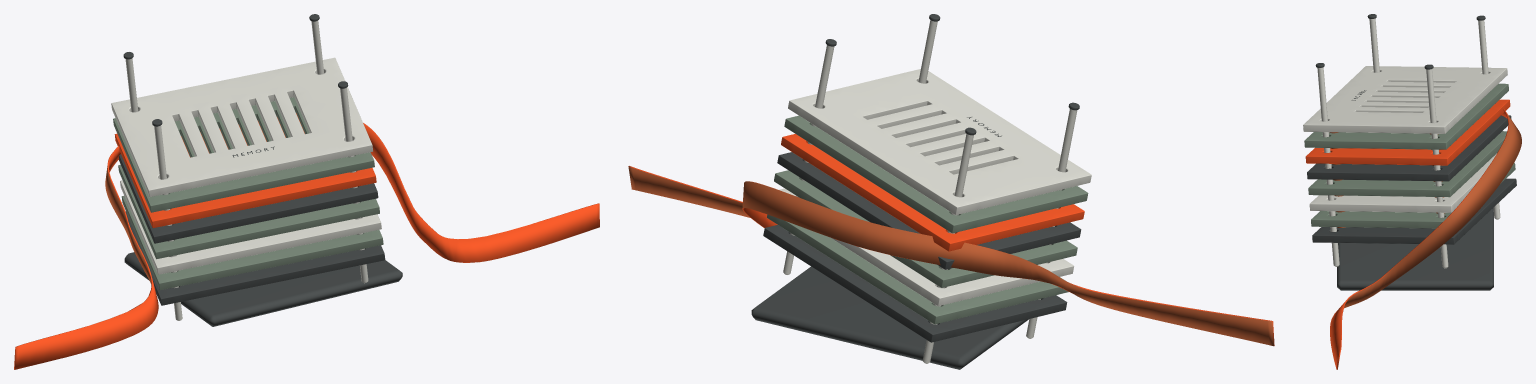
File: plates.glb
3 renders of one model, left to right at view 1: azimuth 30°, elevation 25°; view 2: azimuth 150°, elevation 25°; view 3: azimuth 270°, elevation 25°, orthographic. The views are drawn at different scales.
Visible parts, largest first — view 1: Layer7, Bed, Layer6, Layer5, Layer3, Layer1, Layer2, Layer4, Layer0; view 2: Bed, Layer7, Layer6, Layer0, Layer5, Layer1, Layer4, Layer2, Layer3; view 3: Bed, Layer7, Layer5, Layer6, Layer4, Layer3, Layer2, Layer0, Layer1.
Boxes of the visible parts, left/top/right/bottom form: Layer7: left=111, top=57, right=372, bottom=196; Bed: left=14, top=14, right=599, bottom=369; Layer6: left=113, top=97, right=374, bottom=212; Layer5: left=114, top=113, right=376, bottom=227; Layer3: left=118, top=164, right=379, bottom=259; Layer1: left=121, top=196, right=383, bottom=290; Layer2: left=120, top=180, right=381, bottom=274; Layer4: left=119, top=154, right=378, bottom=243; Layer0: left=125, top=211, right=385, bottom=305; Bed: left=628, top=14, right=1274, bottom=369; Layer7: left=788, top=69, right=1091, bottom=214; Layer6: left=784, top=115, right=1088, bottom=233; Layer0: left=763, top=225, right=1067, bottom=342; Layer5: left=781, top=134, right=1084, bottom=251; Layer1: left=767, top=214, right=1068, bottom=324; Layer4: left=777, top=152, right=1081, bottom=269; Layer2: left=779, top=188, right=1074, bottom=306; Layer3: left=774, top=170, right=1077, bottom=287; Bed: left=1315, top=14, right=1521, bottom=369; Layer7: left=1303, top=66, right=1507, bottom=133; Layer5: left=1305, top=99, right=1510, bottom=165; Layer6: left=1304, top=83, right=1508, bottom=149; Layer4: left=1307, top=115, right=1511, bottom=181; Layer3: left=1308, top=131, right=1506, bottom=197; Layer2: left=1309, top=153, right=1496, bottom=212; Layer0: left=1312, top=178, right=1516, bottom=244; Layer1: left=1311, top=163, right=1515, bottom=228.
Size of the model in its own units: 9.62 by 3.91 by 3.51.
